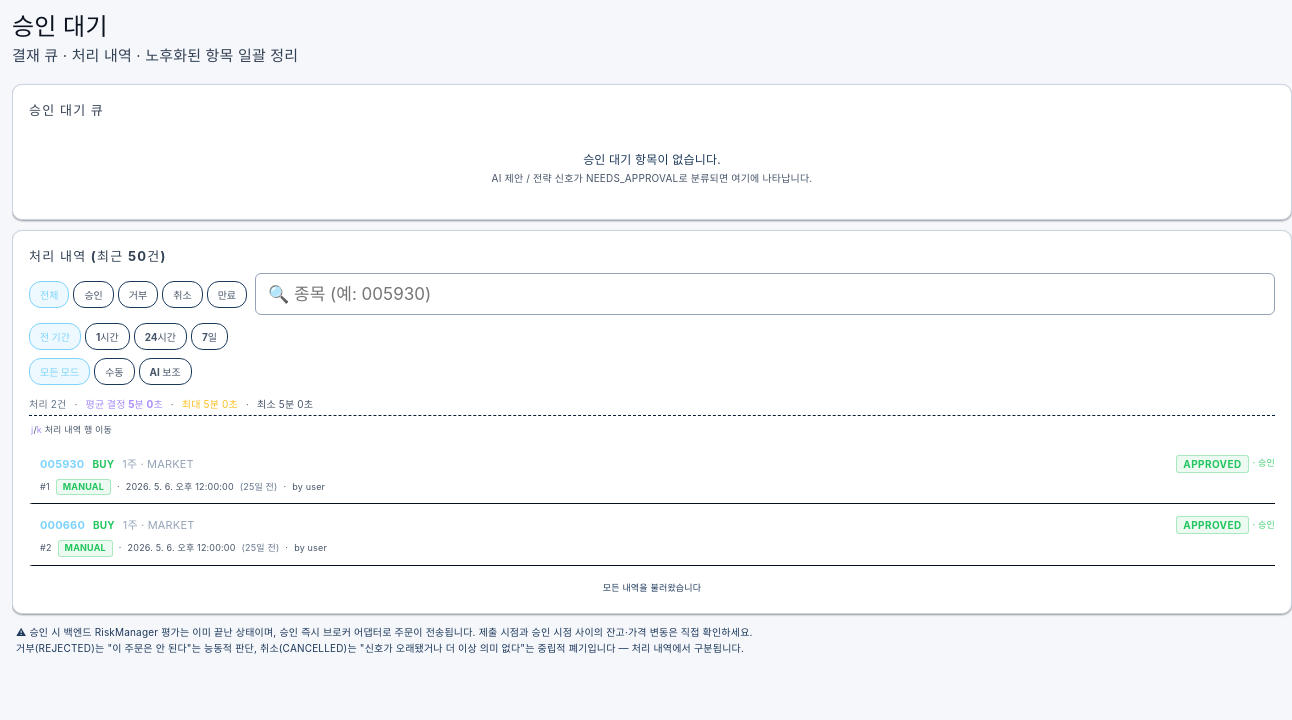
Test: <Approvals> 처리 내역 symbol filter › narrows history rows by case-insensitive substring on symbol
The width and height of the screenshot is (1292, 720).
Type "0066" into the field with placeholder "🔍 종목 (예: 005930)" at (765, 294), box [255,273,1275,315]
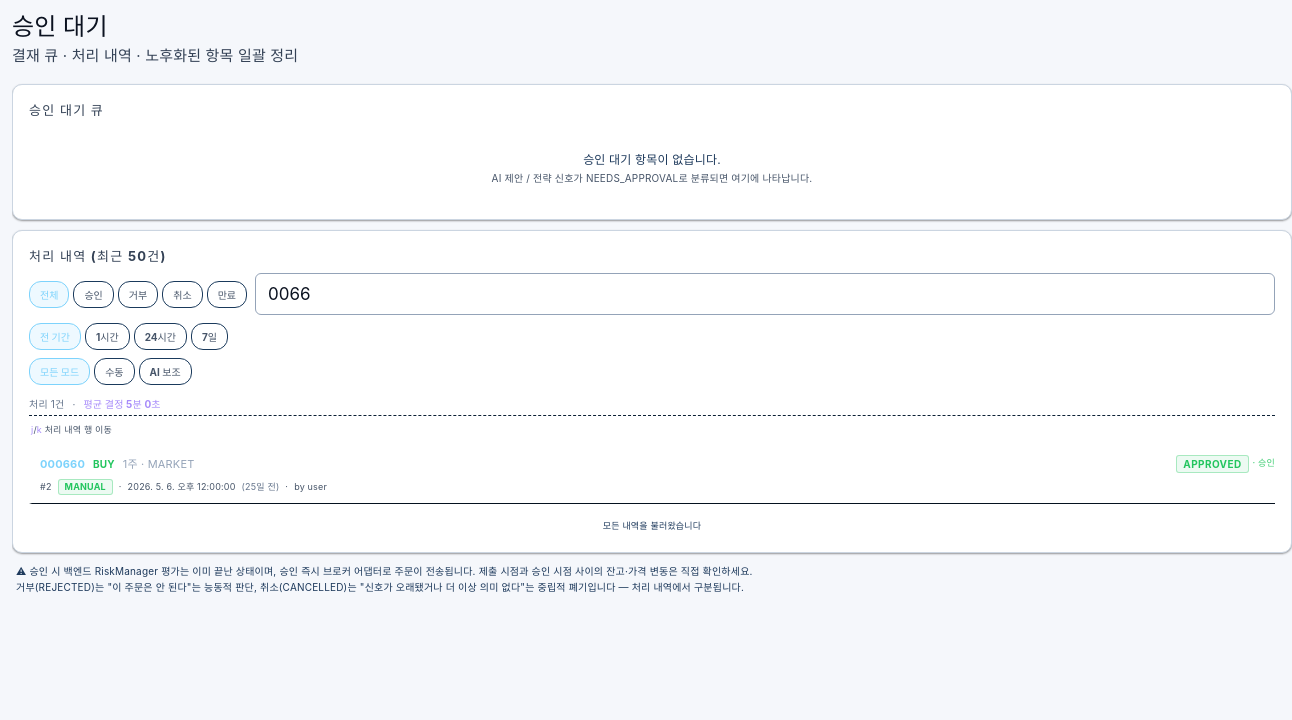
Expected: the text "000660" is shown, [40,457,85,471]
Expected: the text "005930" is gone
